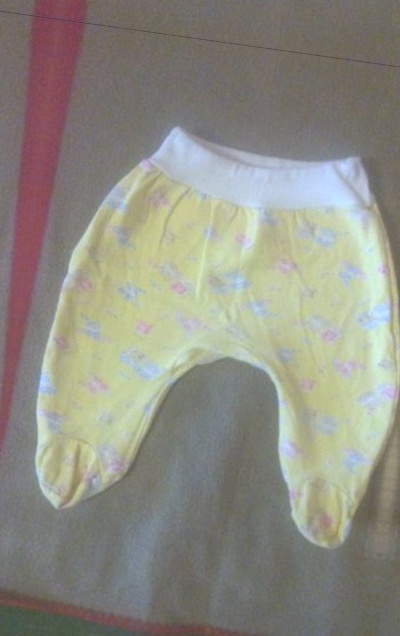Pants: (13, 108, 400, 571), (0, 52, 23, 516), (393, 161, 400, 624)
